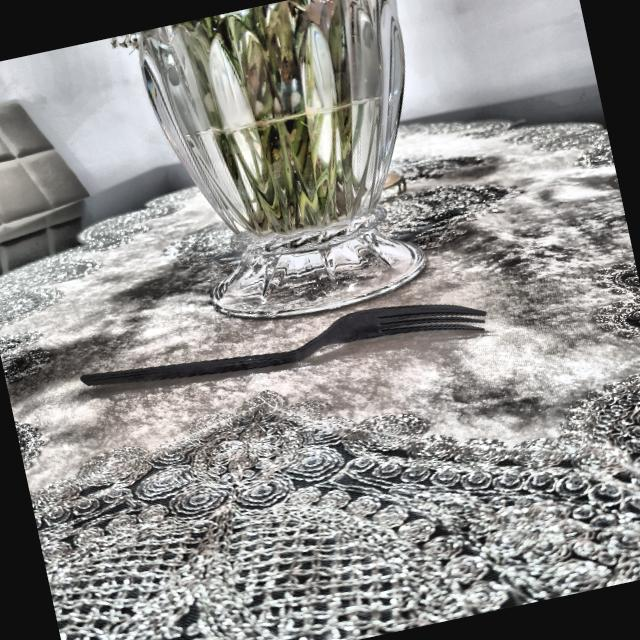plastic utensil: (81, 283, 492, 412)
